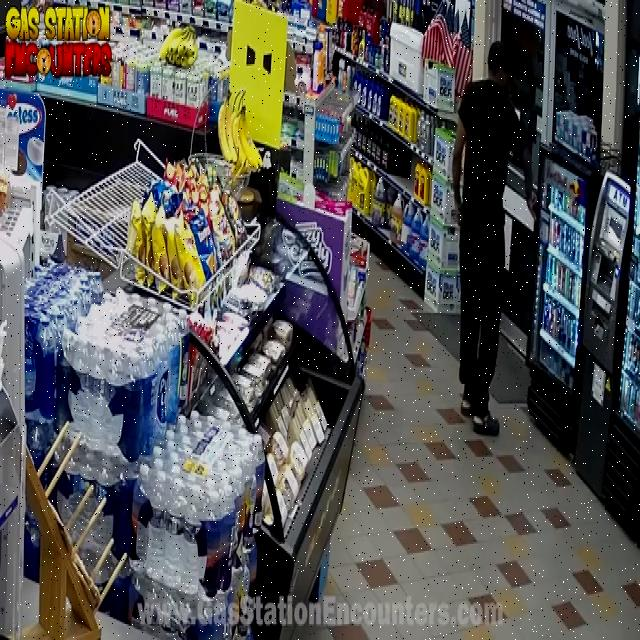hands: (452, 121, 465, 220), (519, 148, 536, 220)
person: (452, 43, 532, 434)
